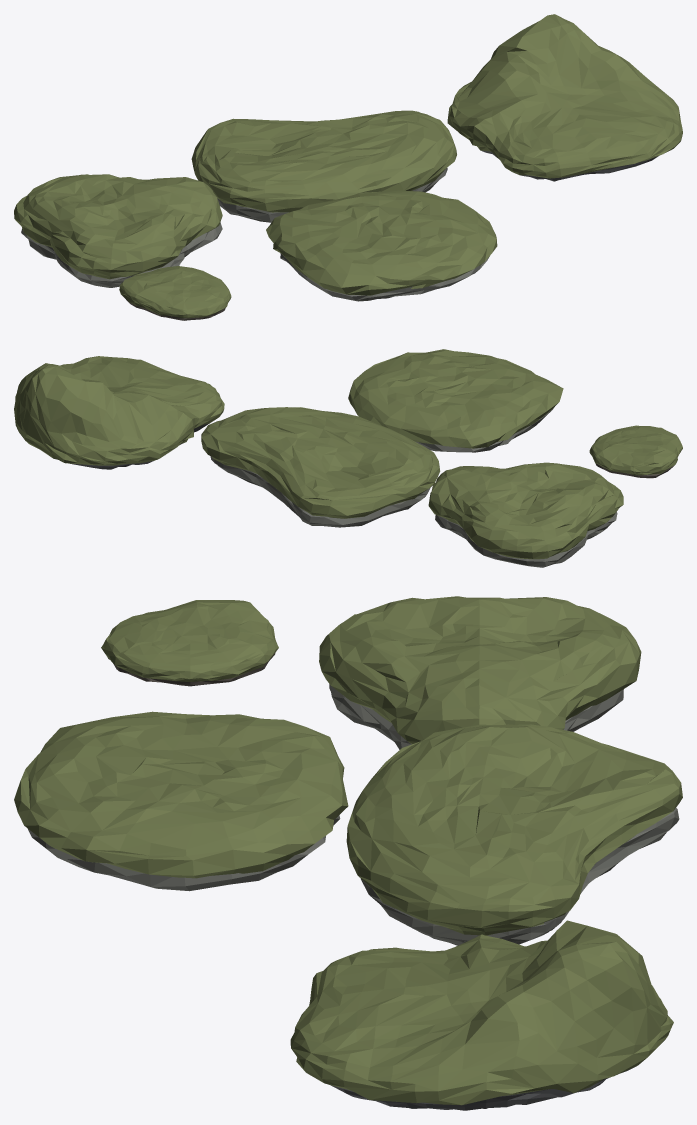
The model's file is Islands_03.fbx.
3 renders of one model, top to bottom at view 1: azimuth 30°, elevation 25°; view 2: azimuth 150°, elevation 25°; view 3: azimuth 270°, elevation 25°, orthographic. The views are drawn at different scales.
Parts seen in each view (by area): view 1: Ö2, pCube36, pCube33, pCube35, Ö1, pCube38, pCube39, pCube37; view 2: pCube36, Ö2, pCube33, pCube35, Ö1, pCube37, pCube38, pCube39; view 3: Ö2, pCube36, pCube33, pCube35, Ö1, pCube37, pCube39, pCube38.
Boxes of the visible parts, <box> form: Ö2: <box>447,14,682,181</box>; pCube36: <box>191,110,456,212</box>; pCube33: <box>266,190,497,295</box>; pCube35: <box>14,174,222,279</box>; Ö1: <box>119,266,231,320</box>; pCube38: <box>21,222,222,287</box>; pCube39: <box>280,253,489,301</box>; pCube37: <box>217,168,447,222</box>; pCube36: <box>201,407,440,518</box>; Ö2: <box>14,356,224,469</box>; pCube33: <box>348,349,563,448</box>; pCube35: <box>428,462,623,559</box>; Ö1: <box>589,425,682,478</box>; pCube37: <box>210,456,430,527</box>; pCube38: <box>435,512,617,567</box>; pCube39: <box>415,408,553,452</box>; Ö2: <box>290,920,673,1110</box>; pCube36: <box>346,724,682,935</box>; pCube33: <box>14,711,348,878</box>; pCube35: <box>319,596,641,744</box>; Ö1: <box>101,600,278,686</box>; pCube37: <box>360,808,679,945</box>; pCube39: <box>28,815,340,891</box>; pCube38: <box>329,684,623,749</box>.
Size of the model in its own units: 56.25 by 8.18 by 33.3.
